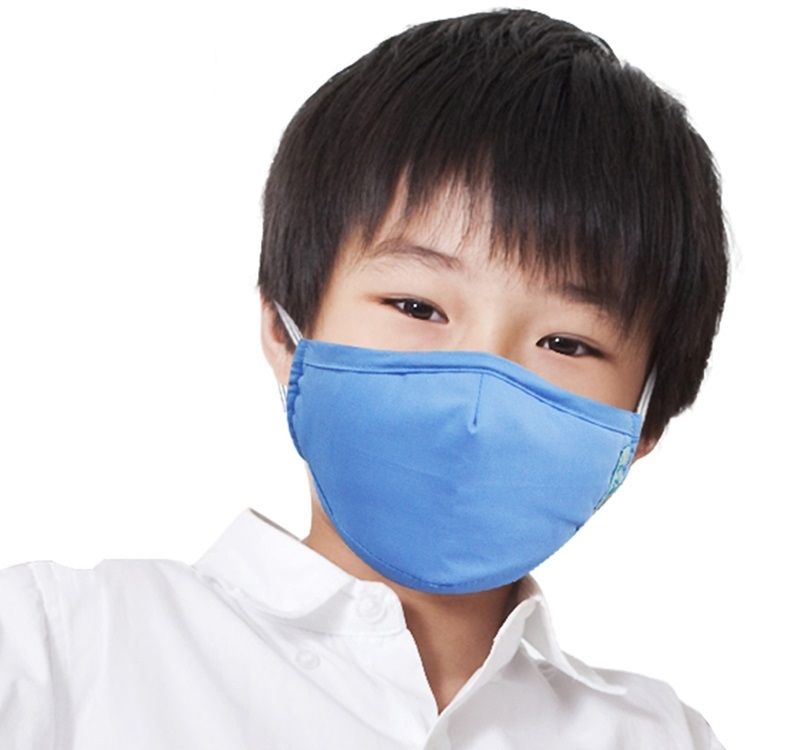face_mask: (304, 154, 650, 567)
